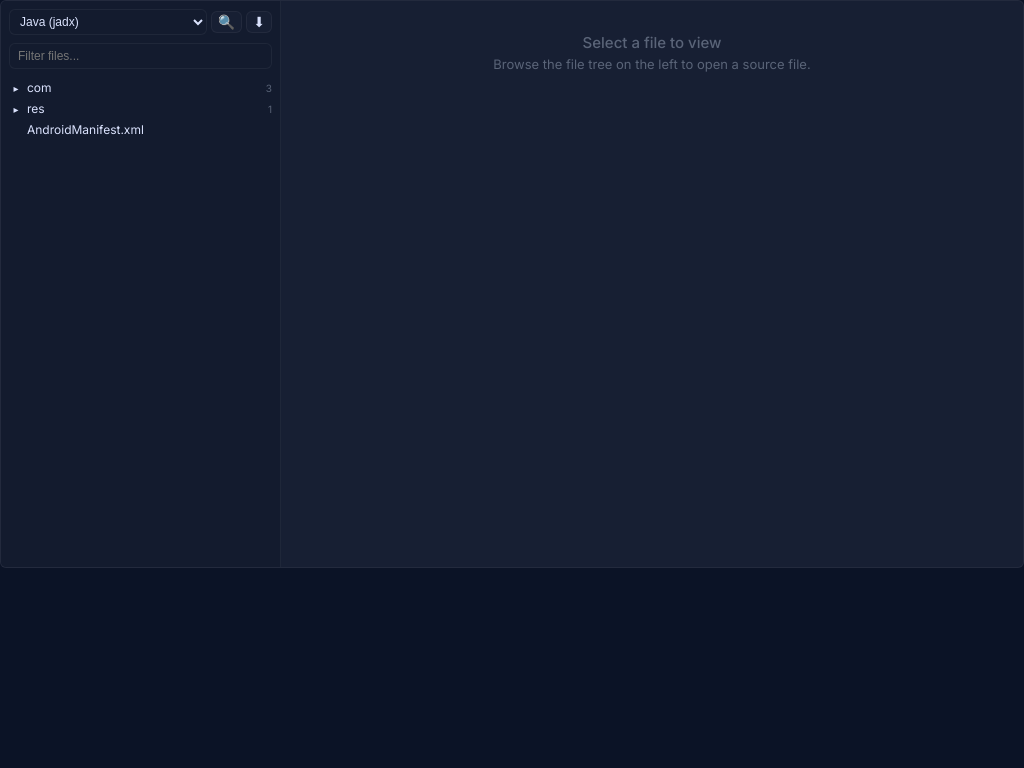
CodeBrowser › pins tab on double click in file tree
Double-click the list item with test id "tree-file-AndroidManifest.xml".
double_click(85, 130)  # box [27, 122, 144, 137]
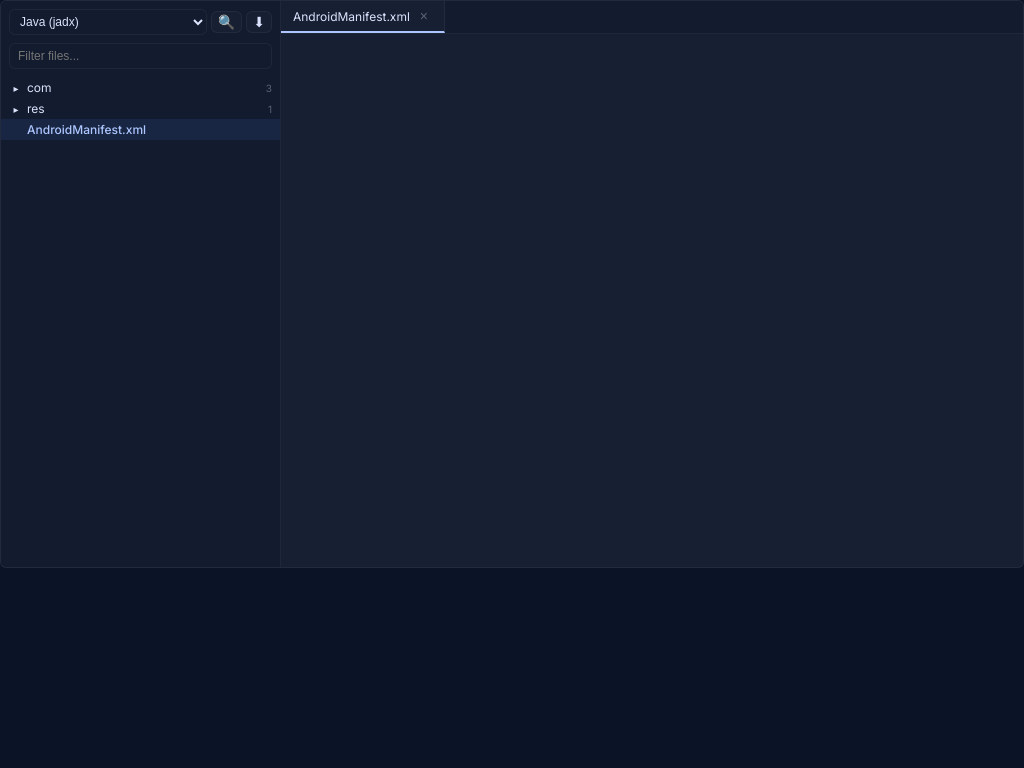
Check: the element with test id "tab-AndroidManifest.xml" is shown, box [281, 1, 445, 33]
